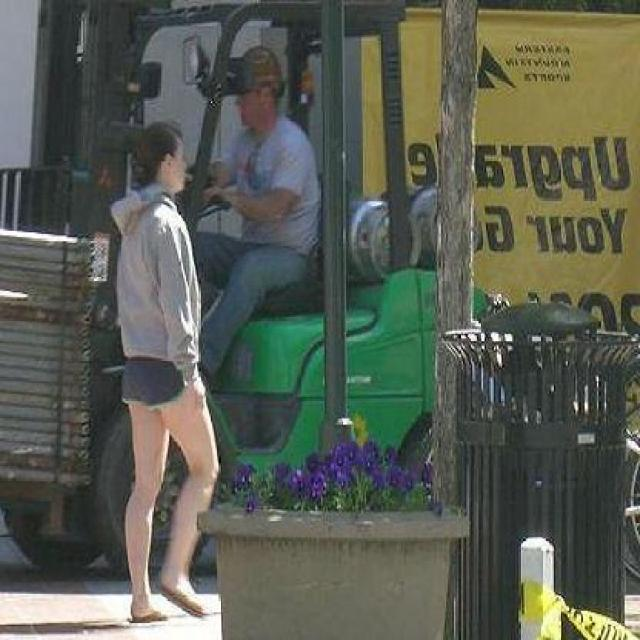Person: (112, 126, 216, 619), (204, 88, 325, 364)
